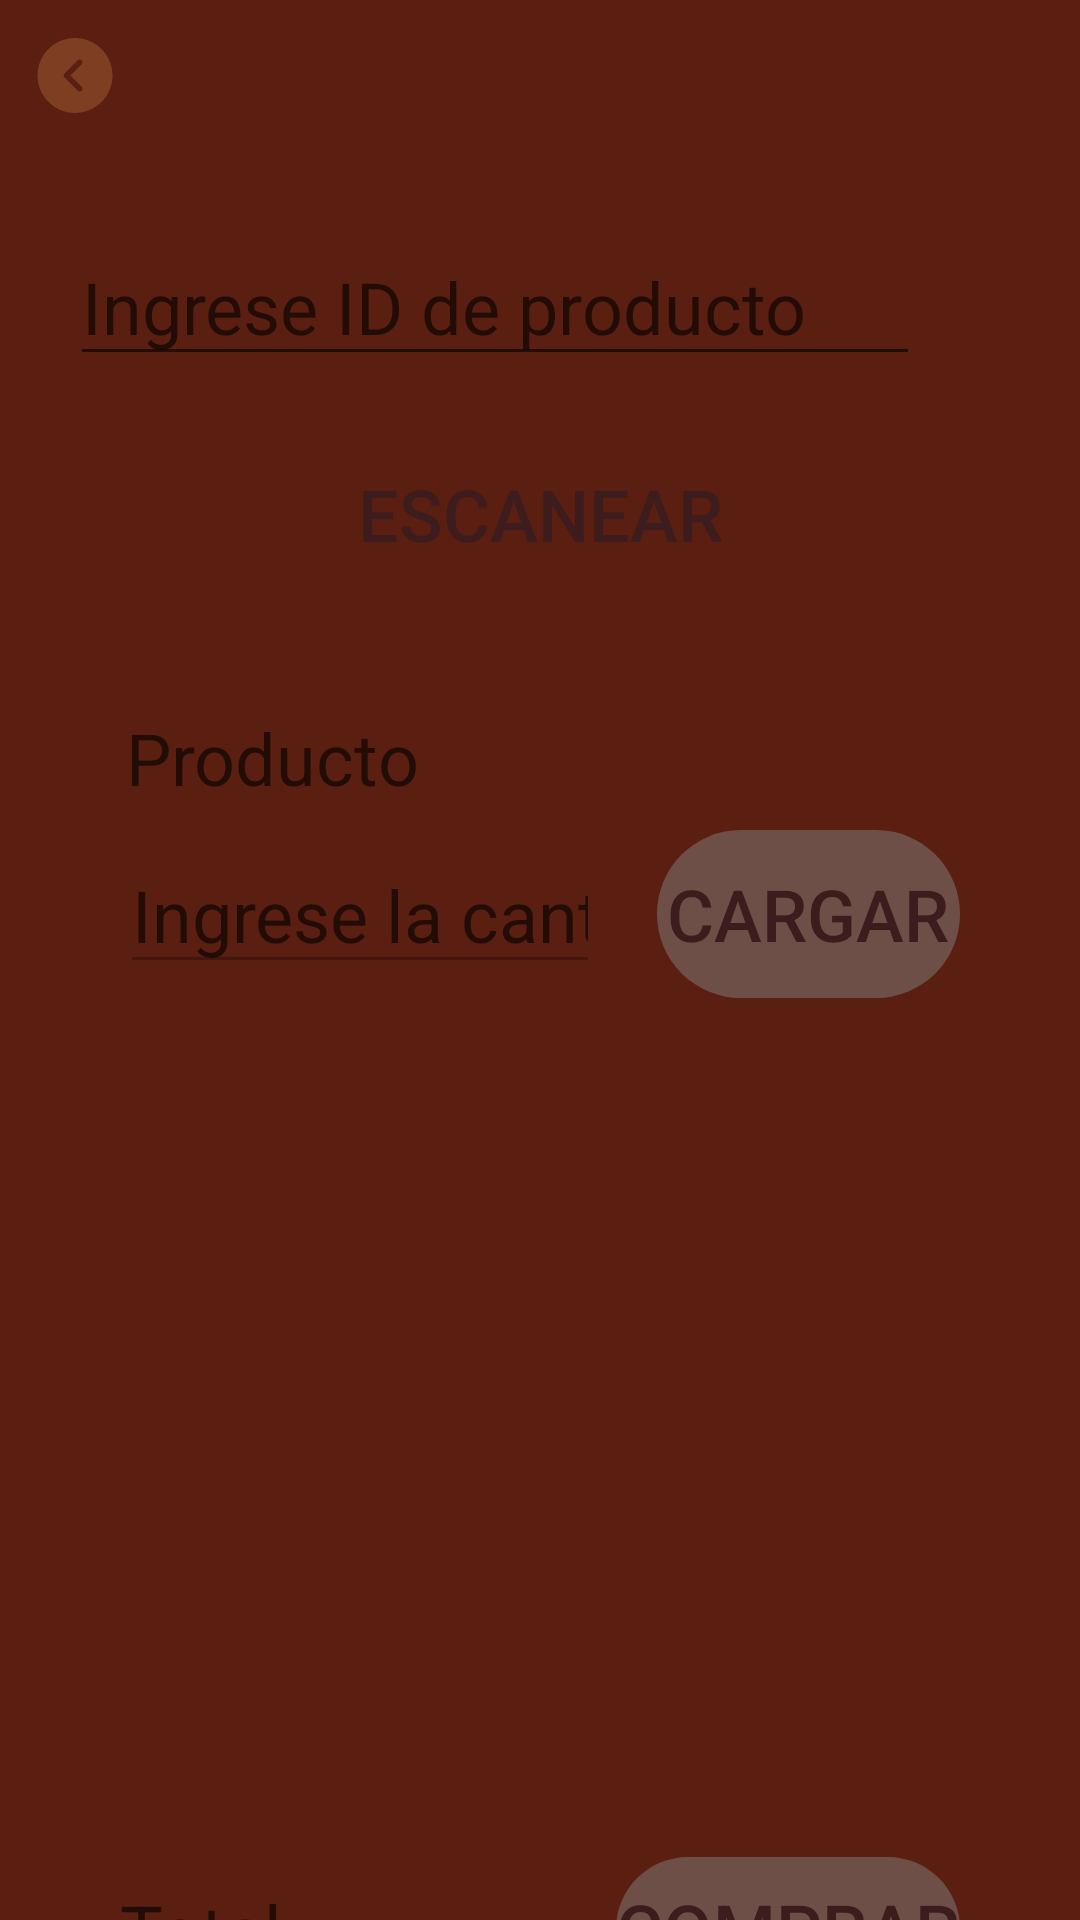

Point at icon controls on the screen. Image size 1080px×1920px, points as (x,y).
button arrow back: (75,75)
